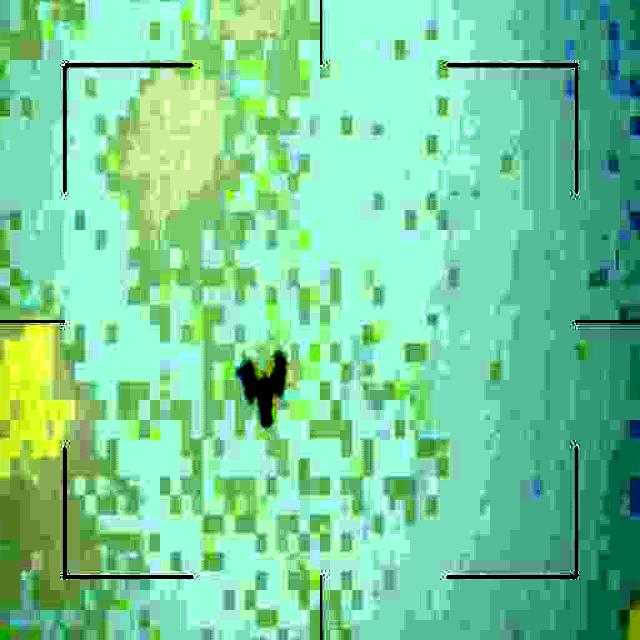bird: (231, 359, 290, 428)
